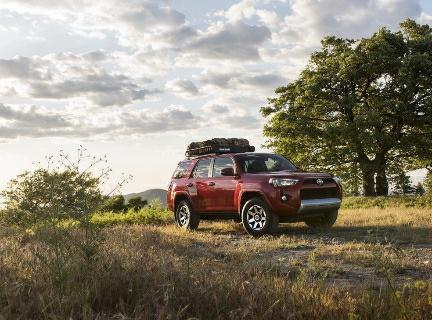丰田-4Runner: (158, 147, 354, 239)
